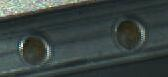joints: (111, 14, 148, 53), (17, 30, 52, 70)
